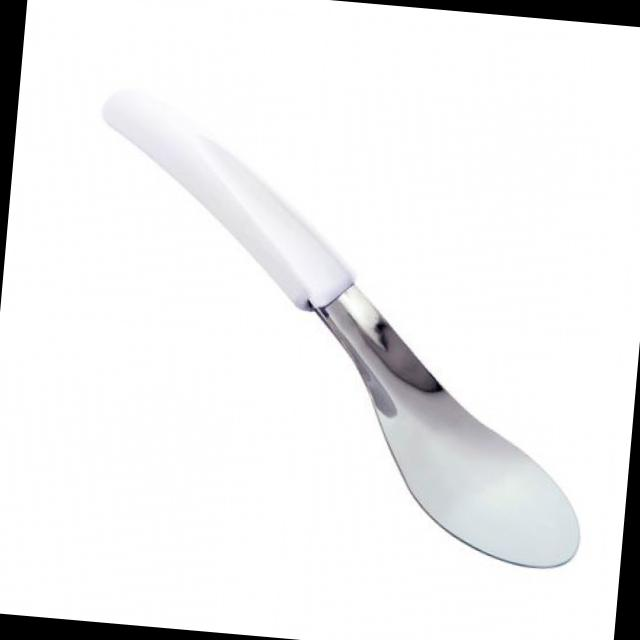spoon: (62, 80, 622, 592)
